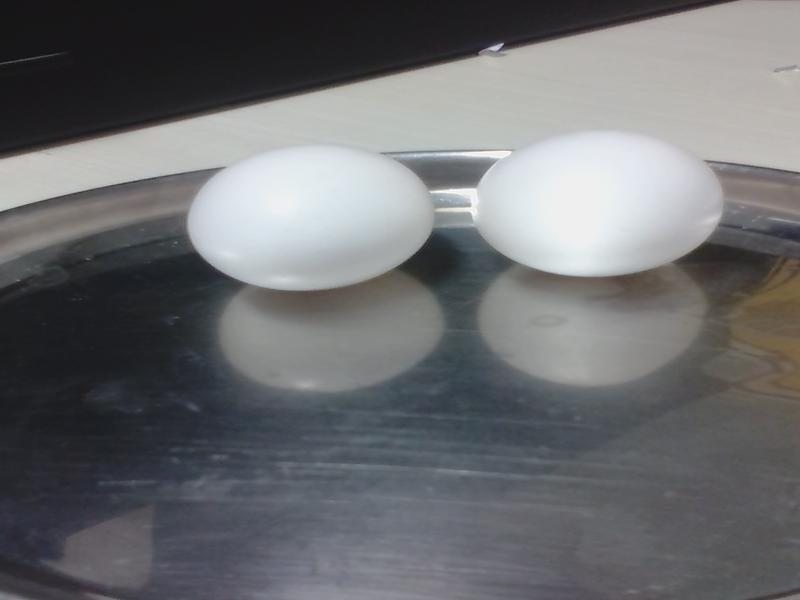egg: (179, 143, 436, 285)
